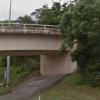Bridge: (2, 11, 74, 71)
